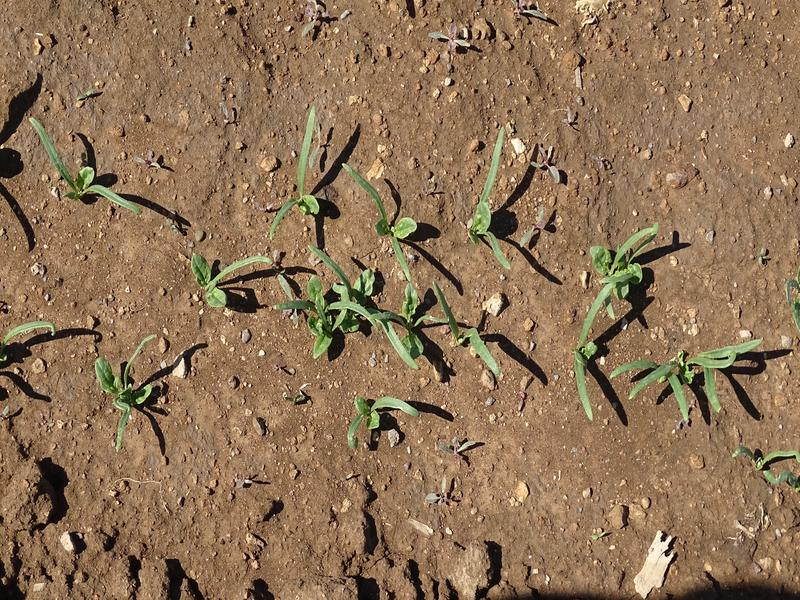Espinaca: (271, 259, 502, 372), (571, 232, 636, 425), (26, 115, 132, 209), (93, 334, 175, 441), (265, 99, 324, 239), (641, 353, 748, 414), (174, 244, 265, 315), (344, 164, 412, 256), (338, 397, 418, 449), (476, 135, 500, 250)
